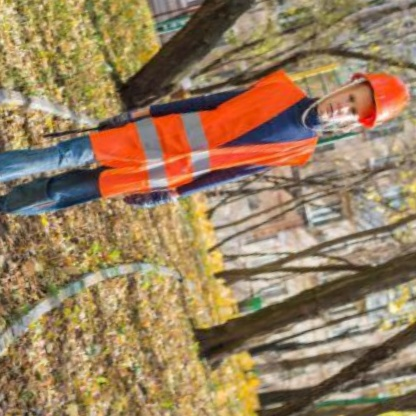vest: (75, 58, 328, 218)
